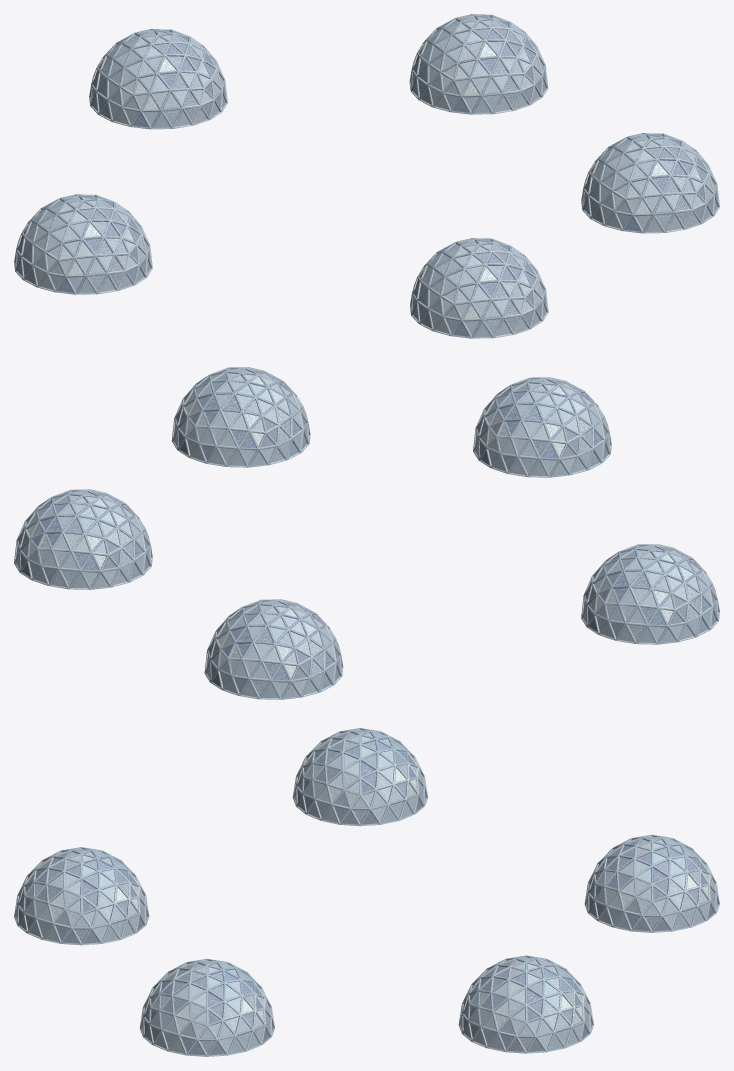
The model's file is domos.obj.
The picture shows the model from 3 angles, top to bottom: view 1: azimuth 30°, elevation 25°; view 2: azimuth 150°, elevation 25°; view 3: azimuth 270°, elevation 25°; orthographic projection. The views are drawn at different scales.
Visible parts, largest first — view 1: domo7:Mesh pasted__pasted__pasted__group pasted__pasted__group2 , domo5:Mesh pasted__group group2, domo4:Mesh pasted__group group1, domo6:Mesh pasted__pasted__group pasted__group2 group3, domo3:Mesh group; view 2: domo4:Mesh pasted__group group1, domo3:Mesh group, domo7:Mesh pasted__pasted__pasted__group pasted__pasted__group2 , domo5:Mesh pasted__group group2, domo6:Mesh pasted__pasted__group pasted__group2 group3; view 3: domo4:Mesh pasted__group group1, domo7:Mesh pasted__pasted__pasted__group pasted__pasted__group2 , domo6:Mesh pasted__pasted__group pasted__group2 group3, domo3:Mesh group, domo5:Mesh pasted__group group2.
Boxes of the visible parts, x1,y1,x2,y2 form: domo7:Mesh pasted__pasted__pasted__group pasted__pasted__group2 : [409, 14, 548, 114]; domo5:Mesh pasted__group group2: [14, 194, 152, 294]; domo4:Mesh pasted__group group1: [410, 238, 548, 338]; domo6:Mesh pasted__pasted__group pasted__group2 group3: [581, 133, 719, 233]; domo3:Mesh group: [89, 29, 227, 129]; domo4:Mesh pasted__group group1: [473, 377, 611, 477]; domo3:Mesh group: [204, 599, 343, 699]; domo7:Mesh pasted__pasted__pasted__group pasted__pasted__group2 : [14, 489, 152, 589]; domo5:Mesh pasted__group group2: [581, 544, 719, 644]; domo6:Mesh pasted__pasted__group pasted__group2 group3: [171, 367, 310, 467]; domo4:Mesh pasted__group group1: [14, 847, 149, 945]; domo7:Mesh pasted__pasted__pasted__group pasted__pasted__group2 : [458, 955, 593, 1053]; domo6:Mesh pasted__pasted__group pasted__group2 group3: [139, 958, 274, 1056]; domo3:Mesh group: [584, 834, 719, 932]; domo5:Mesh pasted__group group2: [292, 728, 427, 826].
Bounding box in the file's own units: 191 × 19.7 × 198.
Materials: 1 (1 with a texture image).
